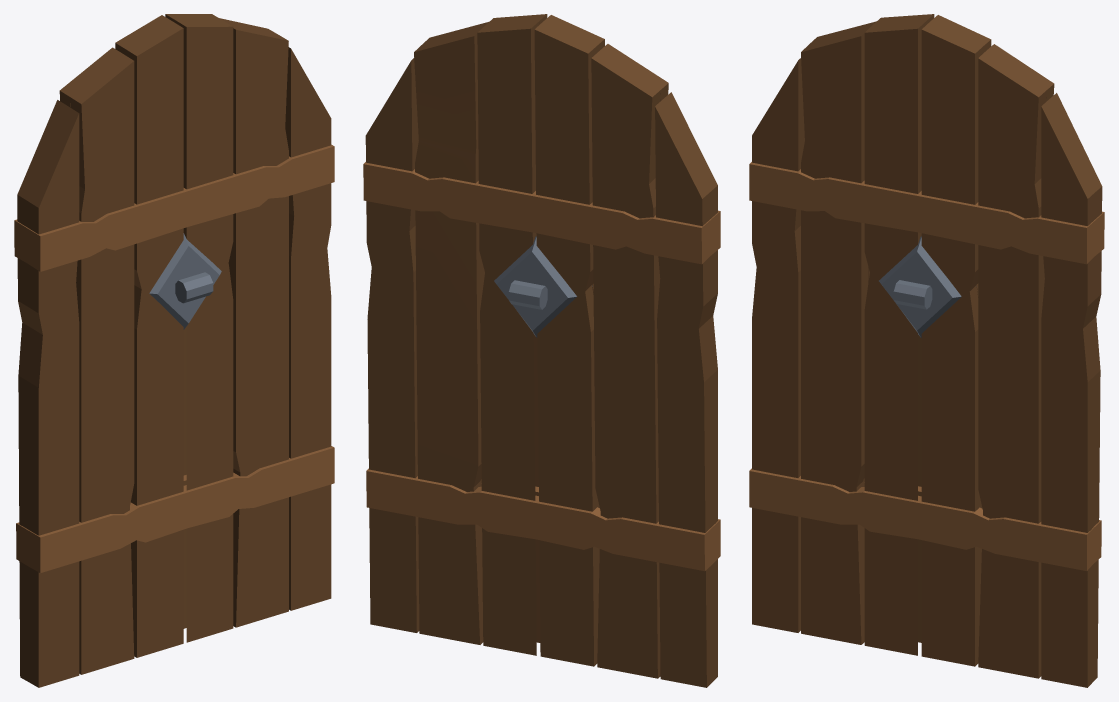
Rendered from Training_first_3(door).fbx.
The picture shows the model from 3 angles, left to right: view 1: azimuth 30°, elevation 25°; view 2: azimuth 150°, elevation 25°; view 3: azimuth 330°, elevation 25°; orthographic projection. The views are drawn at different scales.
Parts seen in each view (by area): view 1: House_1.001; view 2: House_1.001; view 3: House_1.001.
Boxes of the visible parts, bbox=[...] form: House_1.001: bbox=[14, 14, 334, 687]; House_1.001: bbox=[363, 14, 720, 687]; House_1.001: bbox=[749, 14, 1104, 687].
Bounding box in the file's own units: 1123 × 2085 × 269.
